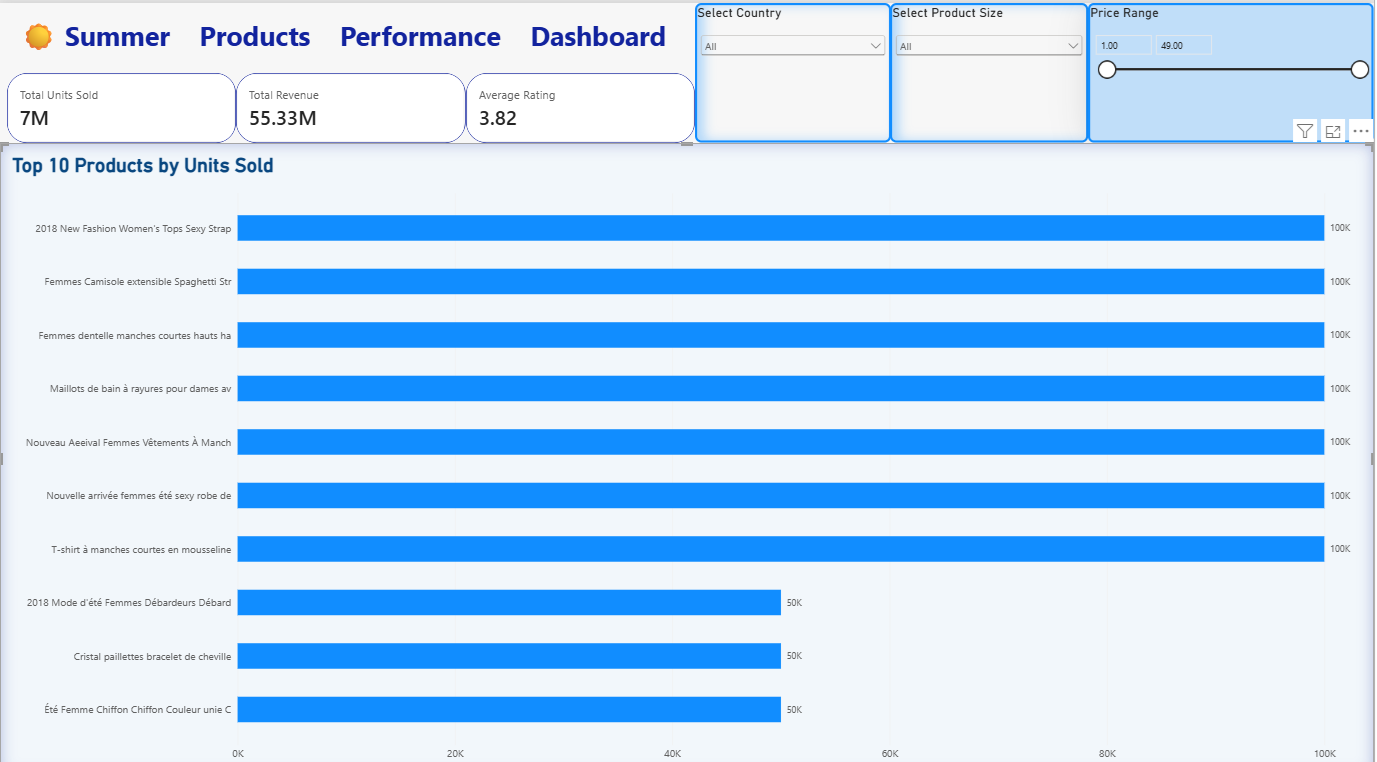

The page's visual inventory and layout, read from the dashboard file:
{"tool":"powerbi","page":{"name":"Product Performance","canvas":[1920,1080],"ordinal":0},"visuals":[{"type":"cardVisual","fields":{"Data":["Sum(6-Subject_1-Summer+products+CSV (3).units_sold)"]},"box":[10.3,97.7,319.5,97.7],"z":0},{"type":"cardVisual","fields":{"Data":["6-Subject_1-Summer+products+CSV (3).Total Revenue"]},"box":[329.9,97.7,320.7,97.7],"z":1000},{"type":"cardVisual","fields":{"Data":["6-Subject_1-Summer+products+CSV (3).Average Rating"]},"box":[650.6,97.7,319.5,97.7],"z":2000},{"type":"clusteredBarChart","title":"Top 10 Products by Units Sold","fields":{"Category":["6-Subject_1-Summer+products+CSV (3).Product Short Name"],"Y":["Sum(6-Subject_1-Summer+products+CSV (3).units_sold)"]},"box":[0,195.4,1919.5,885.1],"z":3000},{"type":"slicer","title":"Select Country","fields":{"Values":["6-Subject_1-Summer+products+CSV (3).Country Name"]},"box":[970.6,0,273.7,194.7],"z":4000},{"type":"slicer","title":"Select Product Size","fields":{"Values":["6-Subject_1-Summer+products+CSV (3).product_variation_size_id"]},"box":[1244,0,277,195],"z":5000},{"type":"slicer","title":"Price Range","fields":{"Values":["6-Subject_1-Summer+products+CSV (3).price"]},"box":[1520.7,0,398.9,195.4],"z":6000},{"type":"textbox","box":[0,19.5,959.8,78.2],"z":7000}]}

Visuals, with their boxes in screenshot pixels (x1, y1, x2, y2), scaled from the page's 1920x1080 canvas onto the 1377x762 screenshot:
cardVisual - Sum(6-Subject_1-Summer+products+CSV (3).units_sold): BBox(7, 69, 237, 138)
cardVisual - 6-Subject_1-Summer+products+CSV (3).Total Revenue: BBox(237, 69, 467, 138)
cardVisual - 6-Subject_1-Summer+products+CSV (3).Average Rating: BBox(467, 69, 696, 138)
"Top 10 Products by Units Sold" clusteredBarChart: BBox(0, 138, 1376, 761)
"Select Country" slicer: BBox(696, 0, 892, 137)
"Select Product Size" slicer: BBox(892, 0, 1091, 138)
"Price Range" slicer: BBox(1091, 0, 1376, 138)
textbox: BBox(0, 14, 688, 69)
